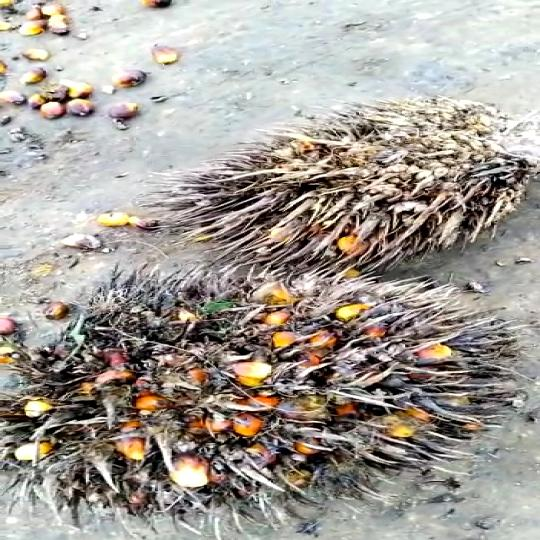terlalu masak: (0, 276, 524, 517), (130, 110, 540, 272)
